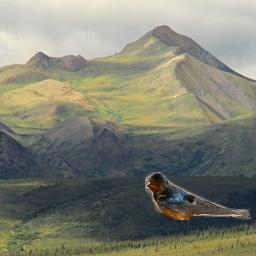Swallow: (145, 172, 251, 220)
